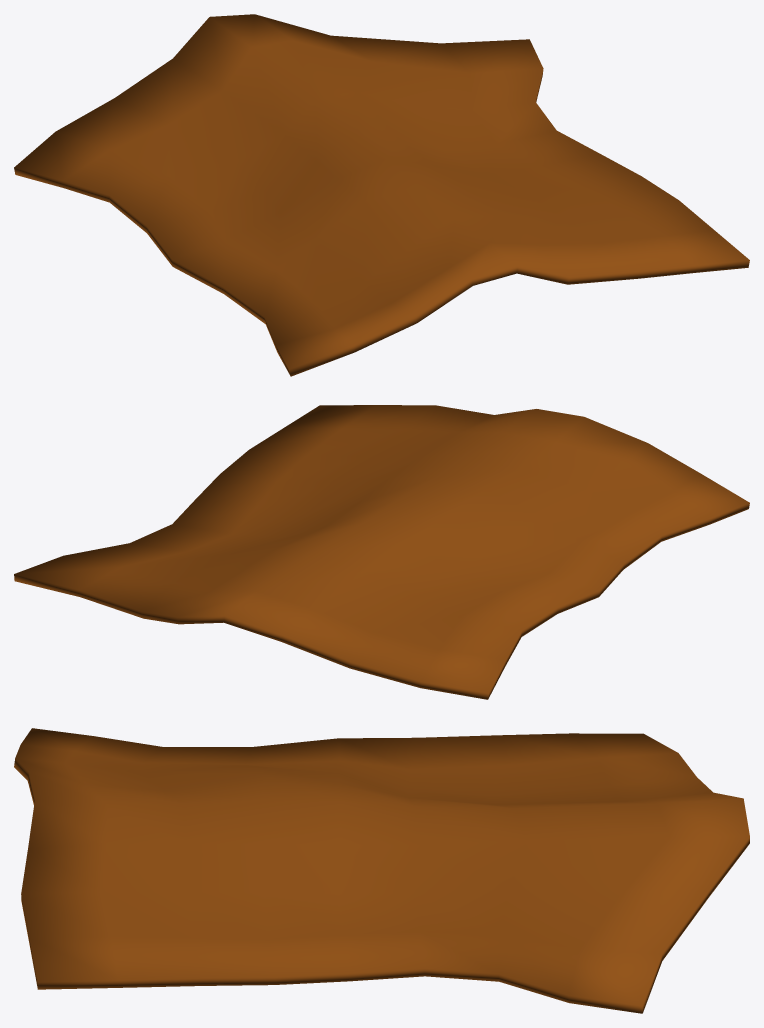
Rendered from Leather.fbx.
3 views of the same model, one above another, from view 1: azimuth 30°, elevation 25°; view 2: azimuth 150°, elevation 25°; view 3: azimuth 270°, elevation 25° (orthographic). The views are drawn at different scales.
Visible parts, largest first — view 1: Leather; view 2: Leather; view 3: Leather.
Boxes of the visible parts, left/top/right/bottom form: Leather: left=14, top=14, right=749, bottom=376; Leather: left=14, top=405, right=749, bottom=699; Leather: left=14, top=728, right=749, bottom=1013.
Bounding box in the file's own units: 46.15 × 5.81 × 51.69.
